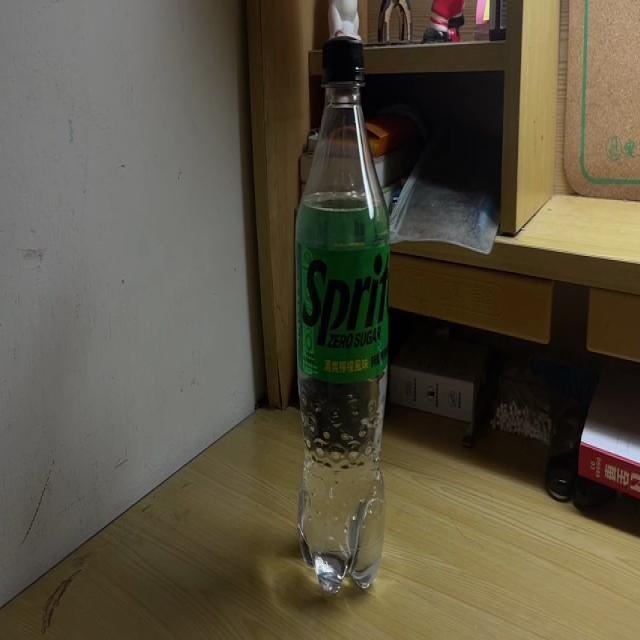Sprite: (296, 34, 386, 596)
